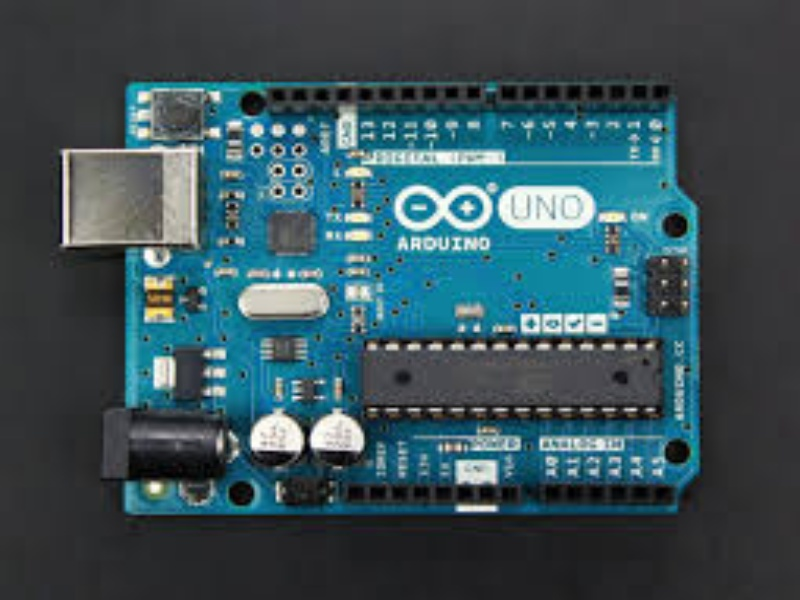uno: (54, 62, 707, 526)
